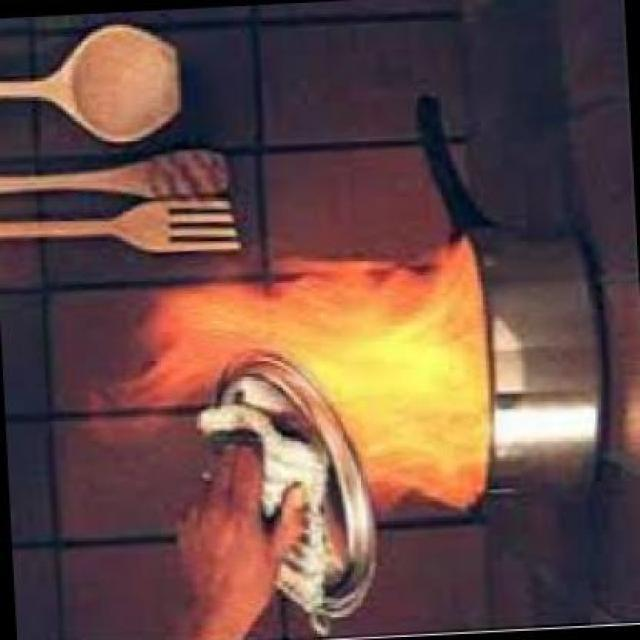Fire: (111, 239, 491, 507)
